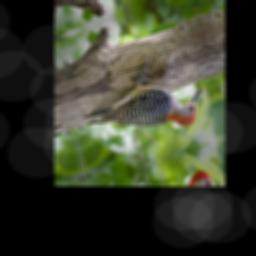Woodpecker: (74, 34, 212, 165)
